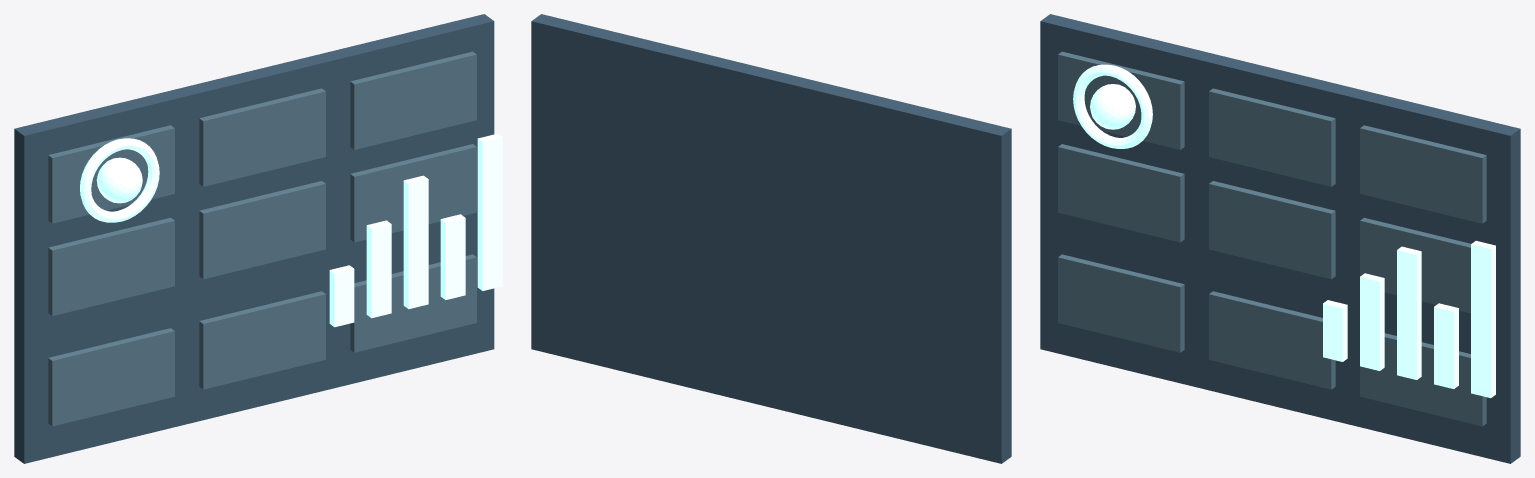
The model's file is plan_03.glb.
3 views of the same model, side by side, from view 1: azimuth 30°, elevation 25°; view 2: azimuth 150°, elevation 25°; view 3: azimuth 330°, elevation 25° (orthographic).
Parts seen in each view (by area): view 1: dashboard, card-0.53_-0.32, card0_0.05, card0_0.36, card0.53_0.36, card-0.53_0.05, card0_-0.32, card0.53_0.05, card0.53_-0.32, card-0.53_0.36, bar4, bar2 (+5 smaller); view 2: dashboard; view 3: dashboard, card-0.53_-0.32, card-0.53_0.05, card0_0.05, card0_0.36, card0.53_0.36, card0_-0.32, card0.53_0.05, card0.53_-0.32, card-0.53_0.36, bar4, bar2 (+5 smaller).
Boxes of the visible parts, x1,y1,x2,y2 form: dashboard: [14, 14, 494, 463]; card-0.53_-0.32: [48, 328, 174, 426]; card0_0.05: [199, 181, 325, 279]; card0_0.36: [199, 88, 325, 186]; card0.53_0.36: [350, 51, 476, 149]; card-0.53_0.05: [48, 217, 174, 315]; card0_-0.32: [199, 291, 325, 389]; card0.53_0.05: [350, 144, 476, 242]; card0.53_-0.32: [350, 254, 476, 352]; card-0.53_0.36: [48, 125, 174, 223]; bar4: [477, 133, 502, 290]; bar2: [403, 175, 428, 309]; dashboard: [531, 14, 1011, 463]; dashboard: [1040, 14, 1520, 463]; card-0.53_-0.32: [1058, 254, 1184, 352]; card-0.53_0.05: [1058, 144, 1184, 242]; card0_0.05: [1209, 181, 1335, 279]; card0_0.36: [1209, 88, 1335, 186]; card0.53_0.36: [1360, 125, 1486, 223]; card0_-0.32: [1209, 291, 1335, 389]; card0.53_0.05: [1360, 217, 1470, 313]; card0.53_-0.32: [1360, 333, 1486, 426]; card-0.53_0.36: [1058, 51, 1184, 149]; bar4: [1471, 240, 1495, 398]; bar2: [1397, 246, 1421, 379].
Size of the model in its own units: 1.82 by 1.21 by 0.2206.
